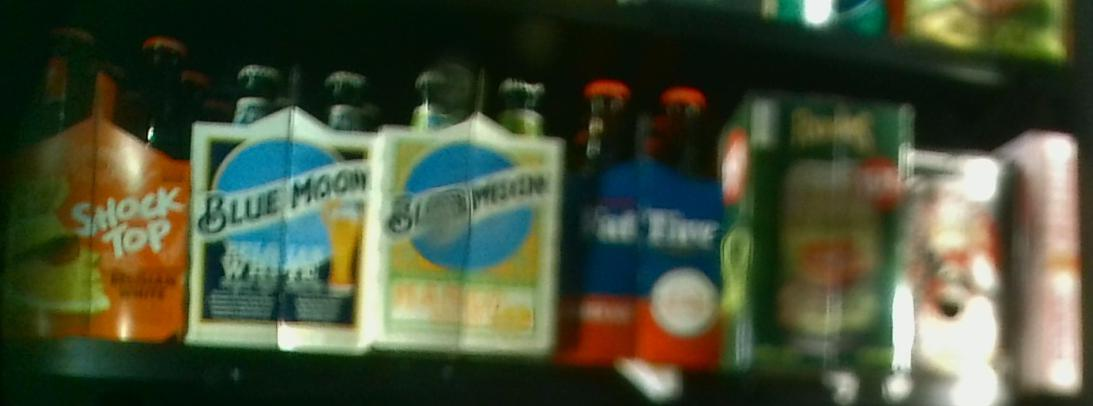bottle: (1, 34, 187, 342), (375, 59, 564, 350), (189, 53, 372, 339), (731, 86, 906, 375), (571, 71, 725, 364), (911, 151, 1011, 390)
